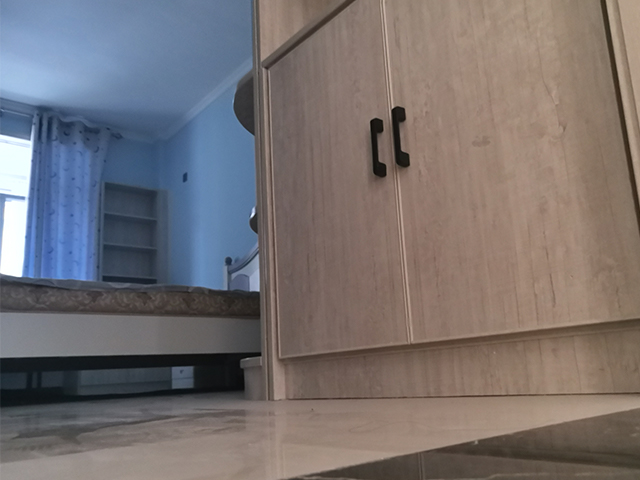bed: (1, 237, 263, 393)
cabinet: (232, 1, 639, 403)
curtain: (20, 108, 104, 282)
